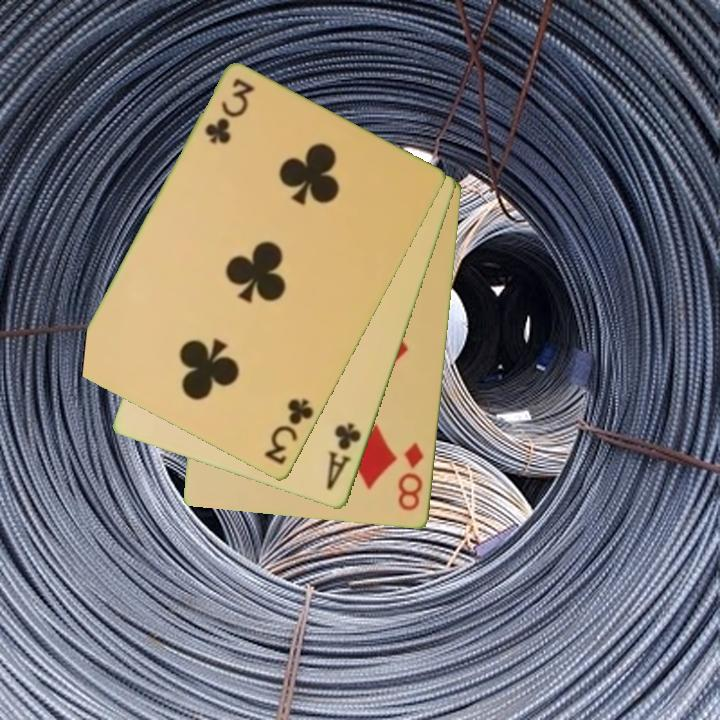3c: (260, 395, 317, 469), (201, 75, 257, 148)
8d: (394, 439, 427, 514)
Ac: (323, 419, 365, 494)
